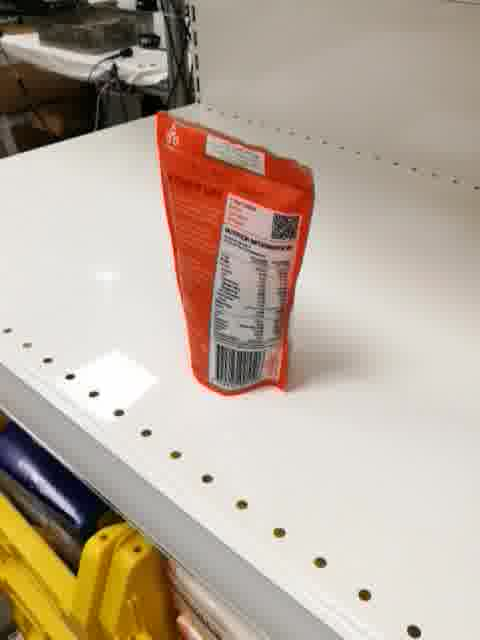whitechia: (154, 108, 317, 399)
